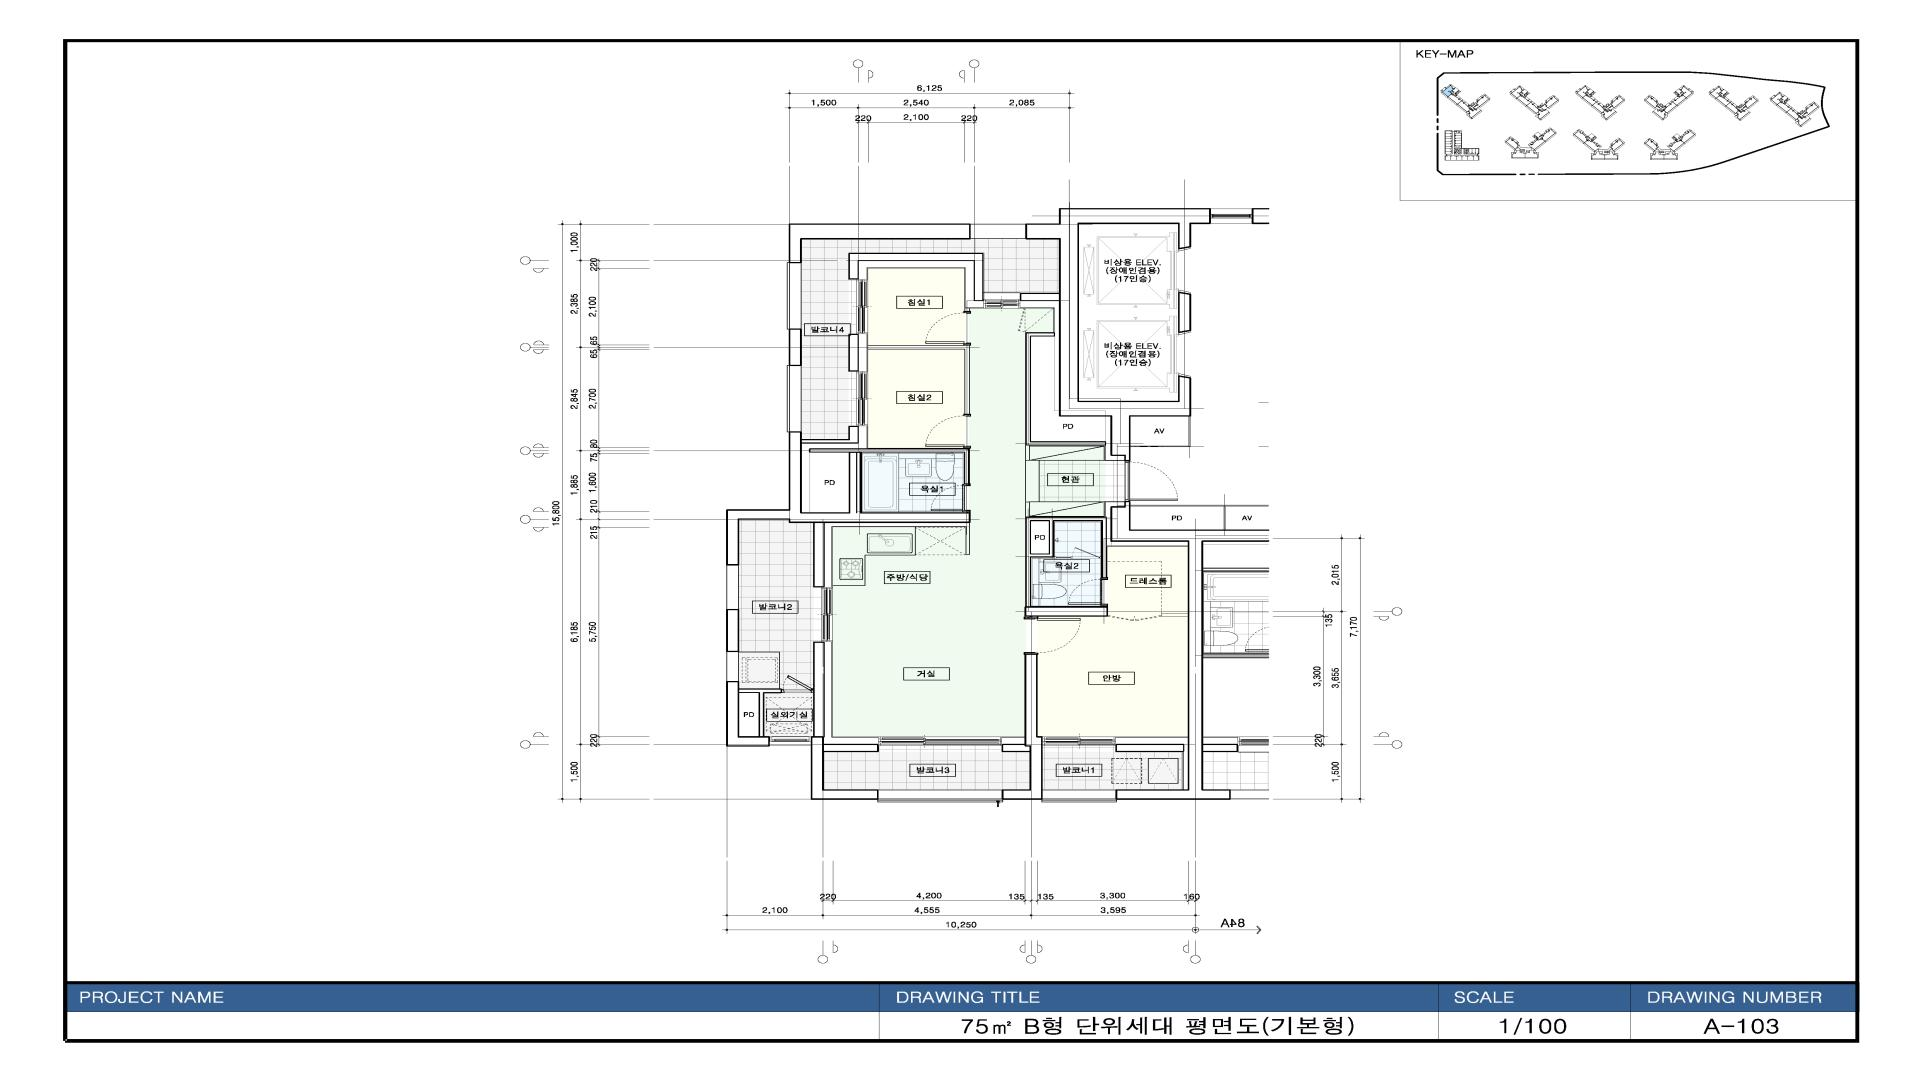door: (1023, 616, 1081, 655), (1125, 462, 1178, 501), (924, 309, 971, 345), (924, 414, 972, 448), (928, 483, 971, 512), (1068, 578, 1109, 607), (782, 675, 814, 692), (1108, 612, 1162, 621), (1071, 547, 1101, 558)
wall: (1110, 501, 1269, 800), (1025, 208, 1211, 462), (727, 433, 971, 566), (1025, 332, 1106, 446), (824, 524, 969, 587), (789, 223, 971, 262), (868, 345, 971, 414), (848, 253, 984, 301), (858, 261, 984, 307), (1004, 655, 1043, 800), (808, 448, 969, 484), (824, 642, 878, 744), (1025, 517, 1108, 578), (811, 736, 877, 800), (1116, 737, 1188, 790), (1105, 501, 1188, 546), (727, 680, 770, 746), (1025, 521, 1054, 607), (740, 688, 782, 736), (814, 642, 824, 736), (802, 426, 858, 443), (1025, 607, 1108, 617), (814, 524, 824, 587), (725, 609, 740, 653), (1178, 291, 1191, 334), (1116, 744, 1183, 752), (789, 330, 802, 365), (824, 744, 878, 752), (848, 334, 858, 372), (858, 334, 868, 372), (1021, 293, 1059, 301), (1203, 744, 1238, 752), (1002, 744, 1030, 752), (1002, 737, 1025, 744), (1162, 613, 1188, 617), (1025, 446, 1030, 460), (1025, 502, 1030, 517), (1055, 556, 1071, 559), (1162, 612, 1188, 613)
window: (877, 790, 1004, 802), (878, 737, 1002, 746), (787, 365, 802, 433), (787, 262, 802, 330), (1042, 790, 1117, 802), (971, 224, 1025, 239), (1042, 737, 1116, 746), (822, 587, 833, 642), (856, 280, 868, 334), (984, 293, 1021, 309), (857, 372, 868, 426), (727, 566, 738, 609), (770, 736, 811, 746), (727, 653, 738, 680)
